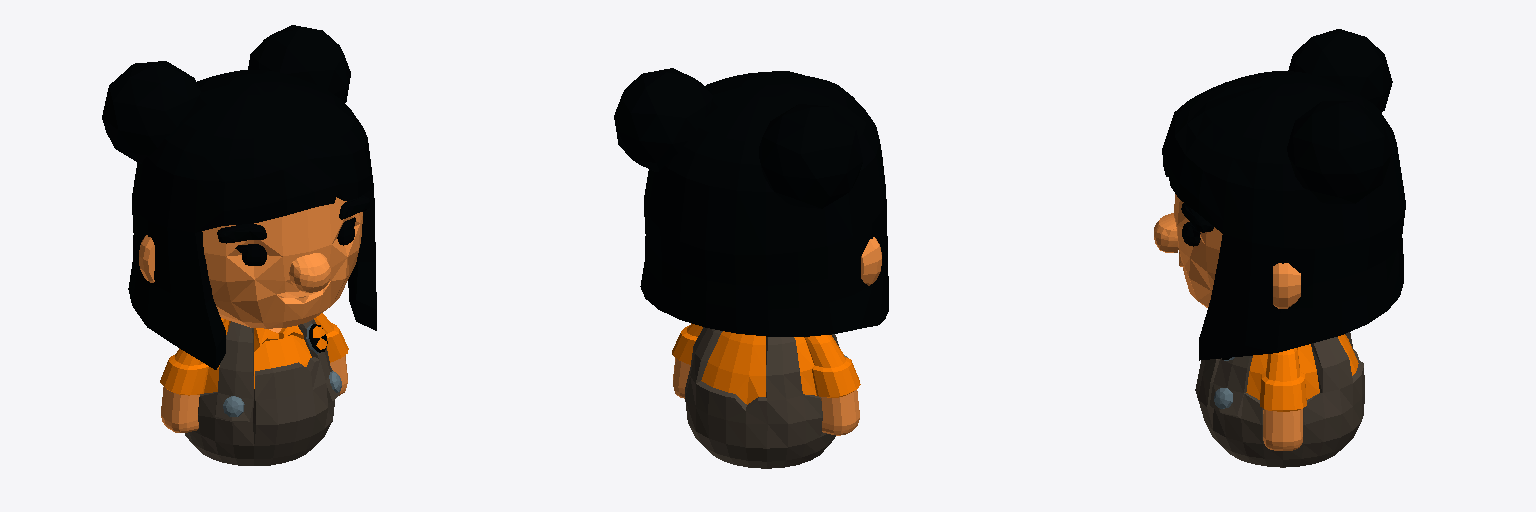
Rendered from character_mechpilot.obj.
3 renders of one model, left to right at view 1: azimuth 30°, elevation 25°; view 2: azimuth 150°, elevation 25°; view 3: azimuth 270°, elevation 25°, orthographic.
Visible parts, largest first — view 1: character_mechpilot_head_Cube.707, character_mechpilot_body_Cube.710, character_mechpilot_armRight_Cube.709, character_mechpilot_armLeft_Cube.708; view 2: character_mechpilot_head_Cube.707, character_mechpilot_body_Cube.710, character_mechpilot_armRight_Cube.709, character_mechpilot_armLeft_Cube.708; view 3: character_mechpilot_head_Cube.707, character_mechpilot_body_Cube.710, character_mechpilot_armLeft_Cube.708.
Part boxes in pixels (x1,y1,x2,y2): character_mechpilot_head_Cube.707: (102, 25, 376, 369); character_mechpilot_body_Cube.710: (185, 319, 341, 465); character_mechpilot_armRight_Cube.709: (160, 318, 224, 432); character_mechpilot_armLeft_Cube.708: (314, 313, 348, 395); character_mechpilot_head_Cube.707: (614, 68, 888, 336); character_mechpilot_body_Cube.710: (685, 327, 847, 468); character_mechpilot_armRight_Cube.709: (804, 335, 860, 435); character_mechpilot_armLeft_Cube.708: (672, 323, 702, 398); character_mechpilot_head_Cube.707: (1154, 29, 1405, 360); character_mechpilot_body_Cube.710: (1195, 332, 1364, 467); character_mechpilot_armLeft_Cube.708: (1260, 348, 1306, 450).
Size of the model in its own units: 1.2 by 1.85 by 1.13.